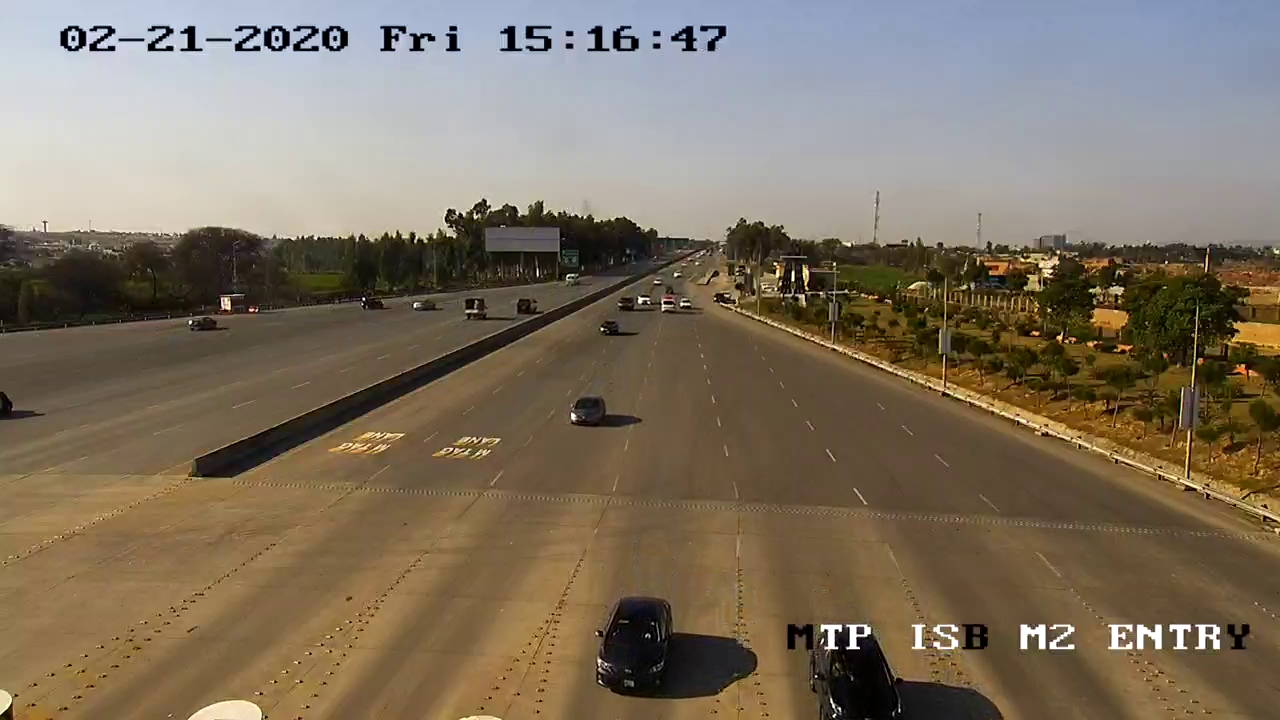f1: (589, 584, 690, 702), (559, 382, 620, 436)
